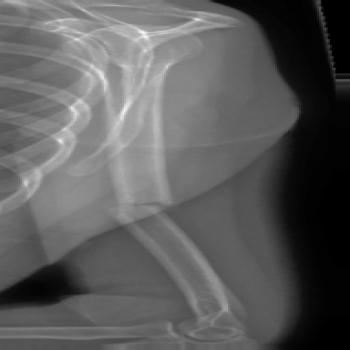Fracture: (94, 197, 194, 216)
